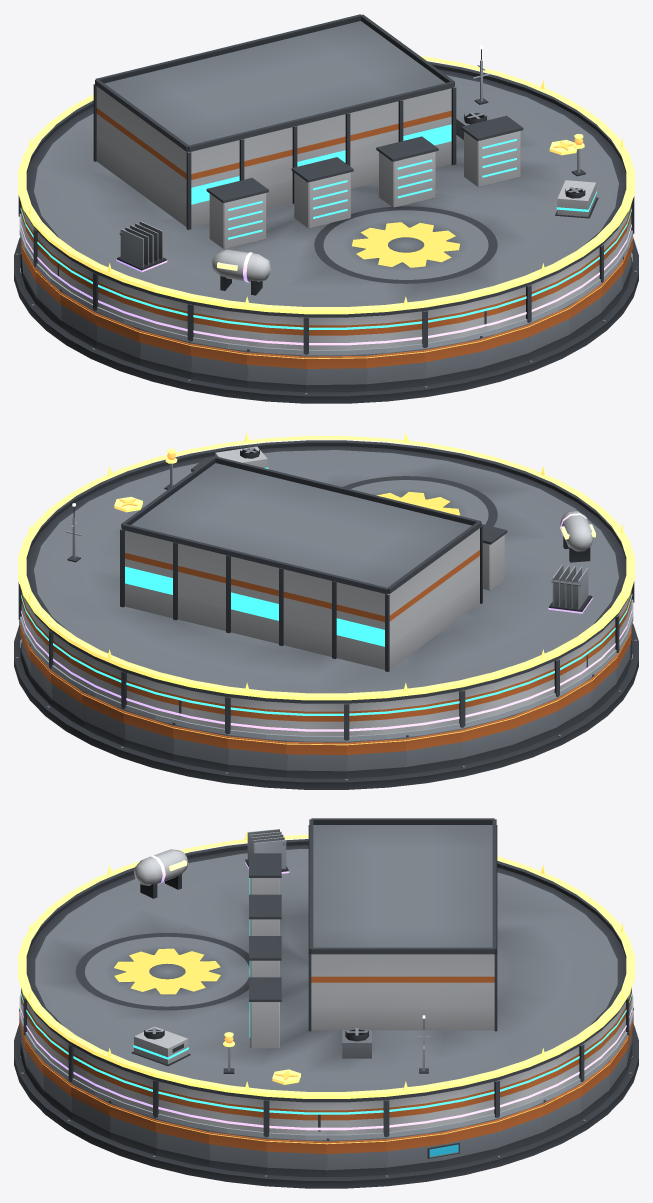
File: battery_plant_l.glb
The picture shows the model from 3 angles, top to bottom: view 1: azimuth 30°, elevation 25°; view 2: azimuth 150°, elevation 25°; view 3: azimuth 270°, elevation 25°; orthographic projection.
Parts seen in each view (by area): view 1: Roof, Base, L4, Wall_21, Wall_20, Wall_22, Wall_19, Wall_23, Wall_18, Wall_24, Upper_21, Upper_22 (+23 smaller); view 2: Roof, Base, L4, Wall_10, Wall_11, Wall_09, Wall_12, Wall_08, Wall_13, Wall_07, Upper_10, Upper_11 (+25 smaller); view 3: Roof, Base, L4, Wall_00, Wall_31, Wall_30, Wall_29, Wall_01, Wall_02, Upper_00, Upper_31, Wall_28 (+26 smaller).
Part boxes in pixels (bbox=[...]): Roof: bbox=[25, 14, 627, 317]; Base: bbox=[14, 237, 638, 403]; L4: bbox=[116, 221, 270, 295]; Wall_21: bbox=[306, 354, 366, 392]; Wall_20: bbox=[247, 349, 306, 392]; Wall_22: bbox=[366, 349, 425, 391]; Wall_19: bbox=[190, 342, 247, 387]; Wall_23: bbox=[425, 338, 480, 385]; Wall_18: bbox=[139, 329, 191, 378]; Wall_24: bbox=[479, 324, 528, 374]; Upper_21: bbox=[306, 316, 366, 353]; Upper_22: bbox=[366, 311, 425, 348]; Roof: bbox=[25, 440, 627, 703]; Base: bbox=[14, 623, 638, 789]; L4: bbox=[548, 511, 595, 613]; Wall_10: bbox=[286, 740, 346, 778]; Wall_11: bbox=[346, 737, 405, 778]; Wall_09: bbox=[227, 735, 286, 777]; Wall_12: bbox=[405, 728, 462, 773]; Wall_08: bbox=[172, 722, 227, 771]; Wall_13: bbox=[461, 715, 513, 765]; Wall_07: bbox=[124, 710, 173, 760]; Upper_10: bbox=[286, 702, 346, 739]; Upper_11: bbox=[346, 699, 405, 739]; Roof: bbox=[25, 818, 627, 1102]; Base: bbox=[14, 1024, 638, 1188]; L4: bbox=[134, 829, 289, 898]; Wall_00: bbox=[326, 1138, 386, 1176]; Wall_31: bbox=[266, 1138, 326, 1176]; Wall_30: bbox=[209, 1130, 266, 1174]; Wall_29: bbox=[155, 1119, 209, 1166]; Wall_01: bbox=[386, 1130, 443, 1174]; Wall_02: bbox=[443, 1119, 497, 1166]; Upper_00: bbox=[326, 1100, 386, 1136]; Upper_31: bbox=[266, 1100, 326, 1136]; Wall_28: bbox=[109, 1100, 156, 1155].
Bounding box in the file's own units: 18.96 × 5.56 × 18.96.
